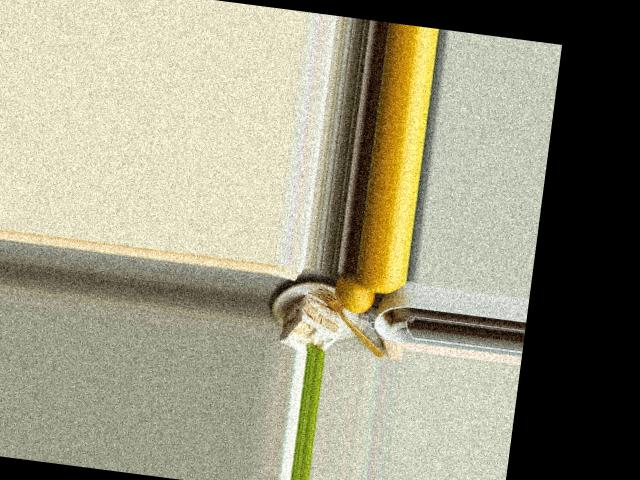lemon: (353, 273, 408, 297)
